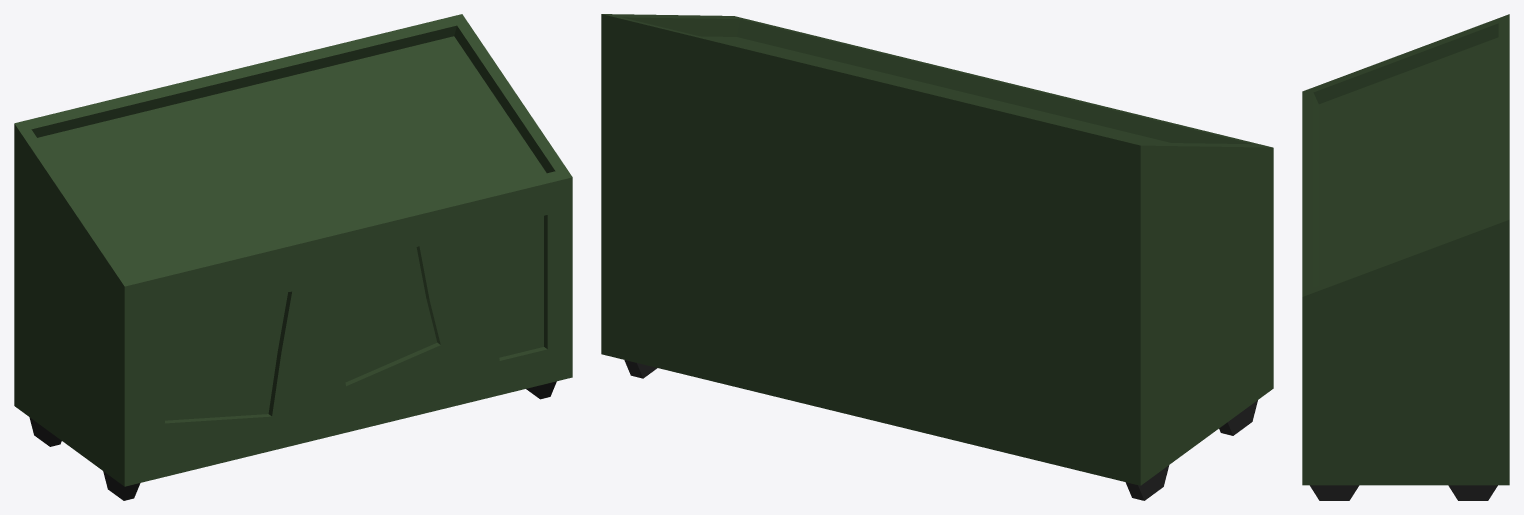
The model's file is SM_Contenedor01.fbx.
3 renders of one model, left to right at view 1: azimuth 30°, elevation 25°; view 2: azimuth 150°, elevation 25°; view 3: azimuth 270°, elevation 25°, orthographic. The views are drawn at different scales.
Visible parts, largest first — view 1: Contenedor; view 2: Contenedor; view 3: Contenedor, Rueda03, Rueda04.
Boxes of the visible parts, left/top/right/bottom form: Contenedor: left=14, top=14, right=572, bottom=486; Contenedor: left=601, top=14, right=1273, bottom=485; Contenedor: left=1302, top=14, right=1509, bottom=485; Rueda03: left=1448, top=485, right=1497, bottom=500; Rueda04: left=1310, top=485, right=1359, bottom=500.
Size of the model in its own units: 104 by 67.82 by 44.4.
